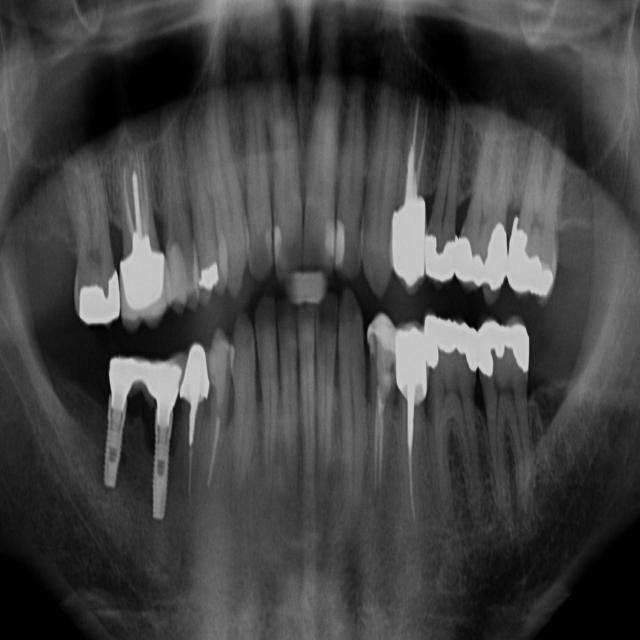dolgu: (363, 316, 402, 354), (323, 206, 346, 259), (192, 256, 224, 292), (262, 222, 286, 270)
implant: (132, 353, 188, 522), (95, 339, 140, 498)
kanal-tedavisi: (392, 82, 434, 214), (396, 386, 430, 525), (118, 153, 158, 266), (369, 384, 398, 488), (203, 402, 226, 501)
kaplama: (509, 225, 562, 302), (463, 219, 506, 283), (432, 319, 482, 372), (395, 202, 428, 282), (482, 322, 534, 372), (73, 273, 124, 321), (397, 334, 435, 392), (123, 258, 164, 310), (180, 340, 212, 403), (426, 227, 458, 281)
